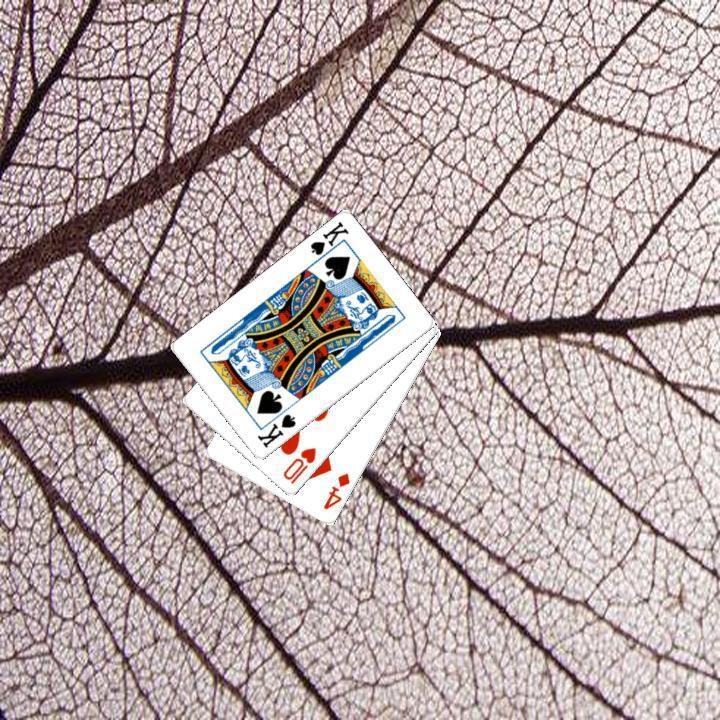10: (279, 443, 318, 486)
4: (319, 469, 352, 512)
K: (306, 217, 351, 266), (253, 410, 298, 450)
